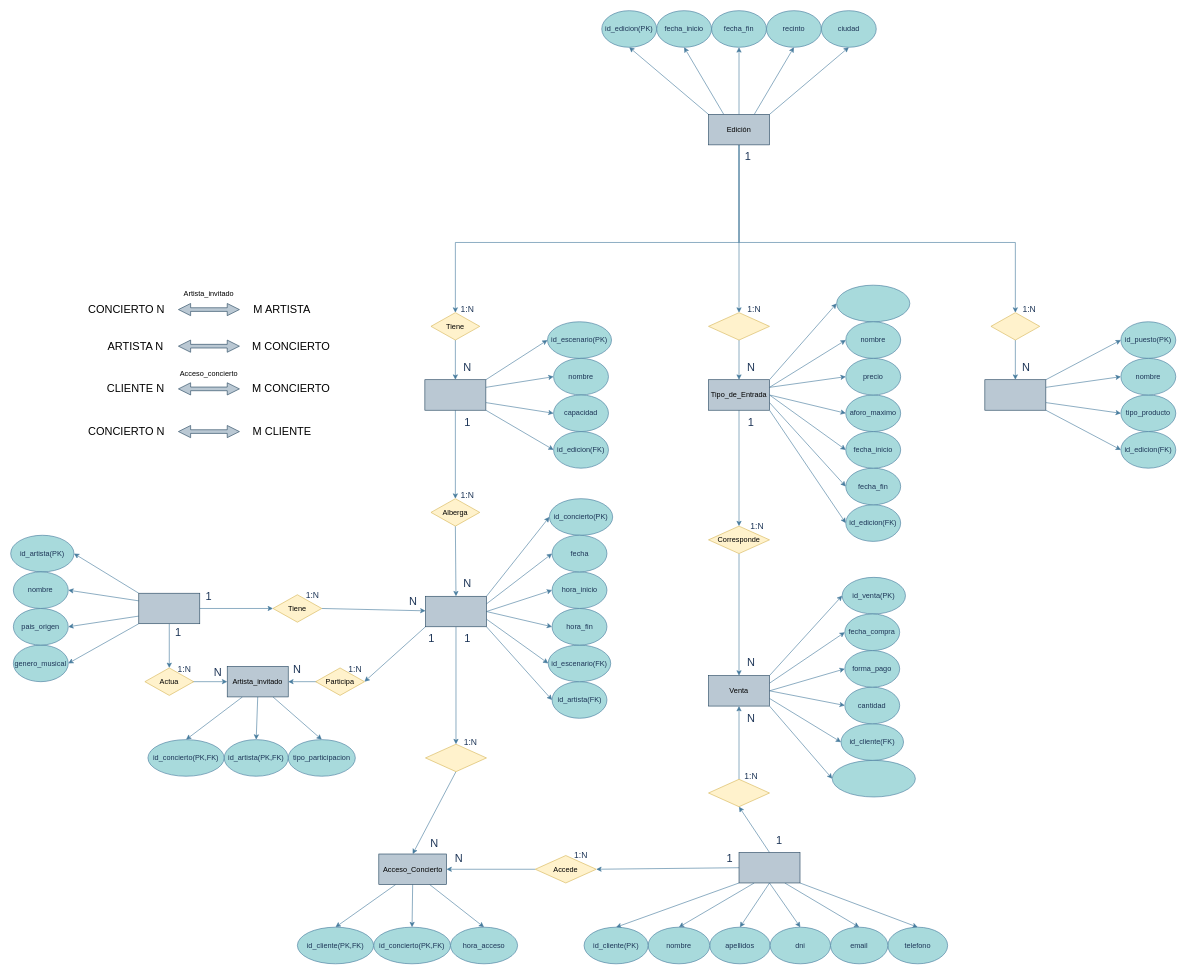
Some shapes in this 1186 by 975 pixel diagram are drawn without their labels. Here are the shapes that lost their labels. From the top down, the centre of each, then its label:
the point at 873,303: id_tipo_entrada(PK)
the point at 739,326: Proporciona
the point at 1015,326: Hay
the point at 455,394: Escenario
the point at 1015,394: Puesto
the point at 169,608: Artista
the point at 455,611: Concierto
the point at 455,758: Registra
the point at 873,778: id_tipo_de_entrada(FK)
the point at 739,793: Realiza
the point at 769,867: Cliente
